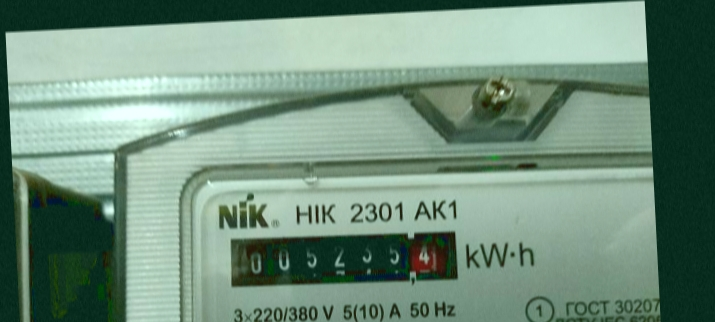0: (248, 247, 266, 274), (277, 244, 293, 270)
2: (332, 240, 347, 266)
3: (360, 237, 375, 263)
4: (417, 238, 433, 265)
5: (387, 237, 403, 264), (304, 242, 320, 268)
screen: (220, 216, 472, 297)
